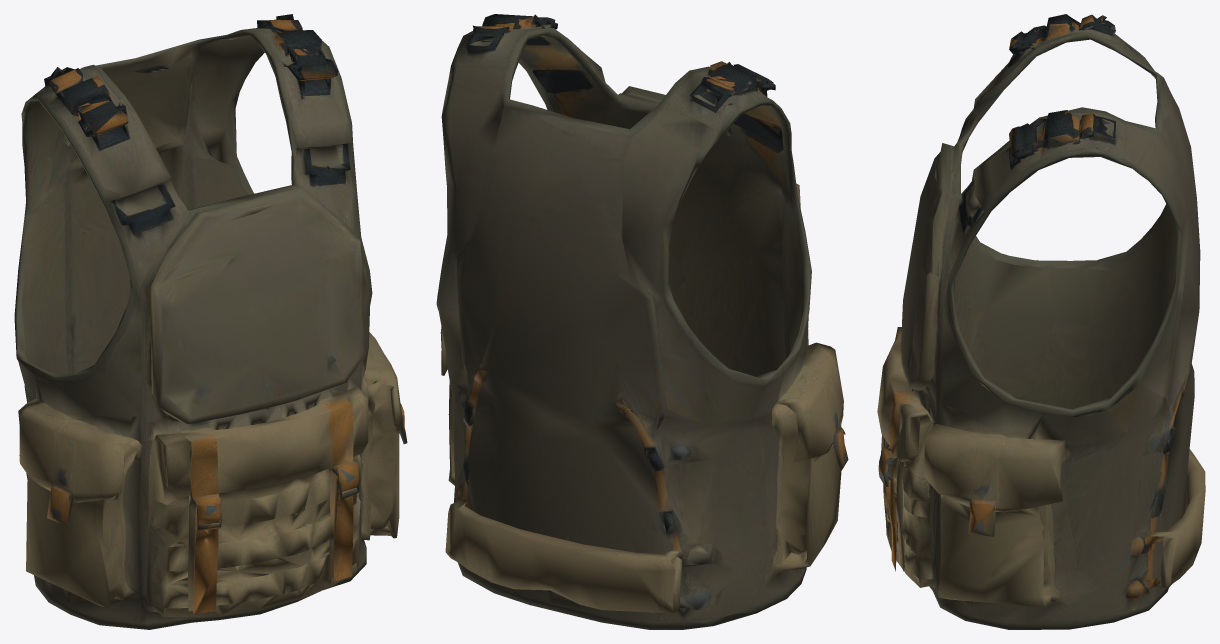
The model's file is vest-web.glb.
3 renders of one model, left to right at view 1: azimuth 30°, elevation 25°; view 2: azimuth 150°, elevation 25°; view 3: azimuth 270°, elevation 25°, orthographic. The views are drawn at different scales.
Size of the model in its own units: 0.4719 by 0.64 by 0.3858.
Materials: 1 (1 with a texture image).
